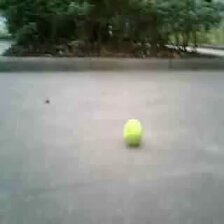tennis: (122, 120, 144, 143)
